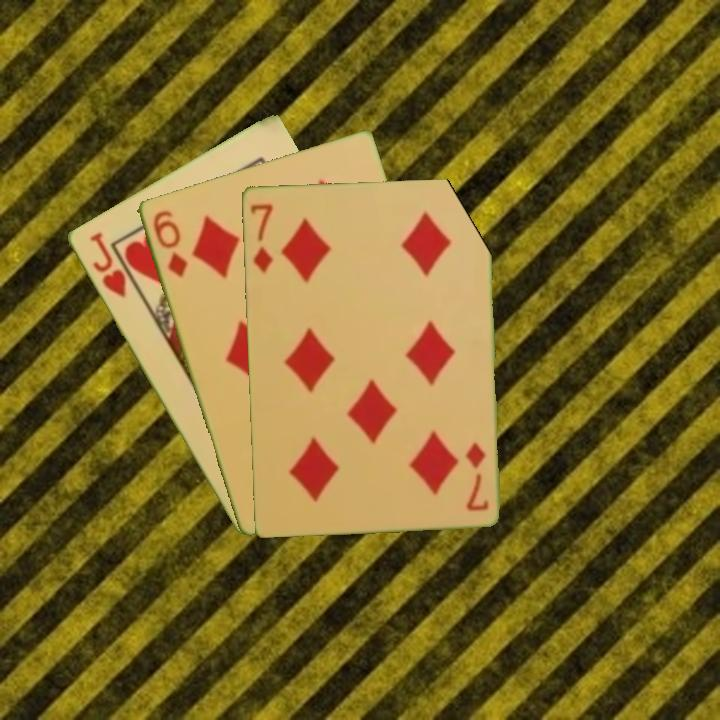6d: (149, 206, 190, 280)
7d: (461, 438, 491, 514), (246, 200, 275, 276)
Jh: (85, 228, 129, 301)
